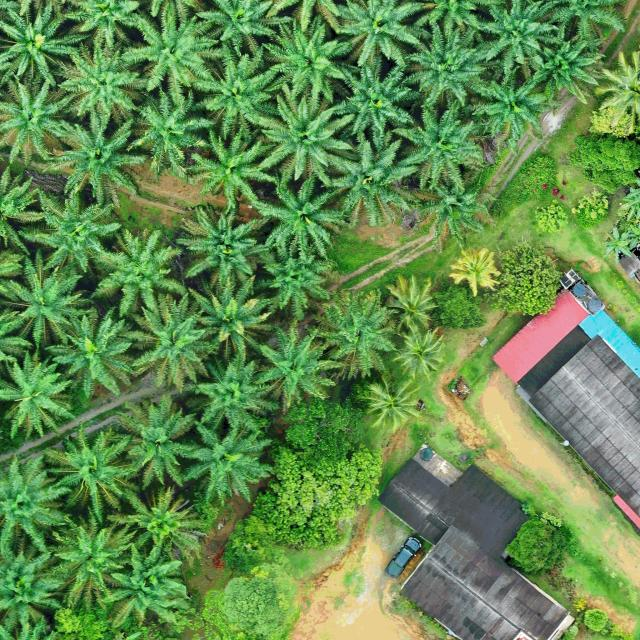0: (242, 89, 356, 188), (40, 108, 150, 210), (14, 184, 123, 276), (318, 130, 419, 228), (118, 292, 216, 392), (109, 388, 204, 488), (188, 40, 282, 140), (119, 4, 222, 93), (90, 225, 187, 319), (305, 284, 398, 382), (180, 412, 276, 504), (45, 303, 137, 399), (390, 101, 484, 193), (46, 511, 130, 612), (254, 171, 346, 262), (0, 450, 76, 559), (190, 278, 282, 368), (44, 425, 138, 513), (106, 478, 202, 564), (260, 10, 348, 103), (130, 84, 215, 180), (0, 350, 77, 453), (402, 21, 491, 109), (408, 165, 501, 249), (176, 202, 265, 289), (47, 36, 142, 117), (193, 347, 281, 434), (0, 528, 67, 639), (464, 60, 551, 145), (324, 57, 416, 136), (319, 1, 427, 68), (0, 264, 89, 345), (0, 78, 76, 171), (108, 548, 190, 634), (0, 0, 78, 84), (188, 127, 274, 203), (472, 0, 564, 71), (256, 326, 336, 407), (524, 27, 606, 106), (256, 249, 336, 324), (195, 0, 295, 54), (362, 368, 424, 433), (386, 321, 447, 386), (383, 274, 439, 332), (449, 247, 500, 298)
banana_tree2: (601, 227, 633, 261), (619, 187, 640, 222)
tree: (219, 397, 385, 576), (205, 565, 302, 640), (498, 241, 563, 317), (566, 131, 640, 194), (504, 513, 570, 573), (433, 280, 486, 330)
